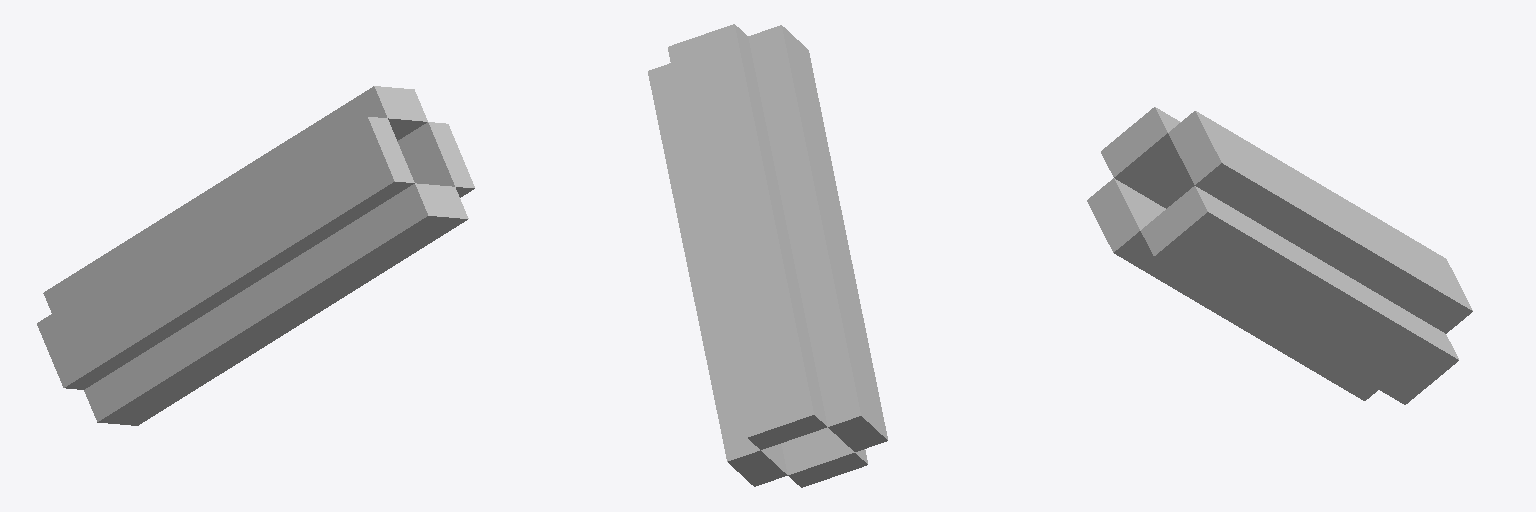
The model's file is stttt.obj.
3 views of the same model, side by side, from view 1: azimuth 30°, elevation 25°; view 2: azimuth 150°, elevation 25°; view 3: azimuth 270°, elevation 25° (orthographic).
Parts seen in each view (by area): view 1: cube; view 2: cube; view 3: cube.
Part boxes in pixels (x1,y1,x2,y2): cube: (37,86,474,425); cube: (648,24,887,487); cube: (1087,107,1472,404).
Size of the model in its own units: 0.6138 by 0.6848 by 0.657.